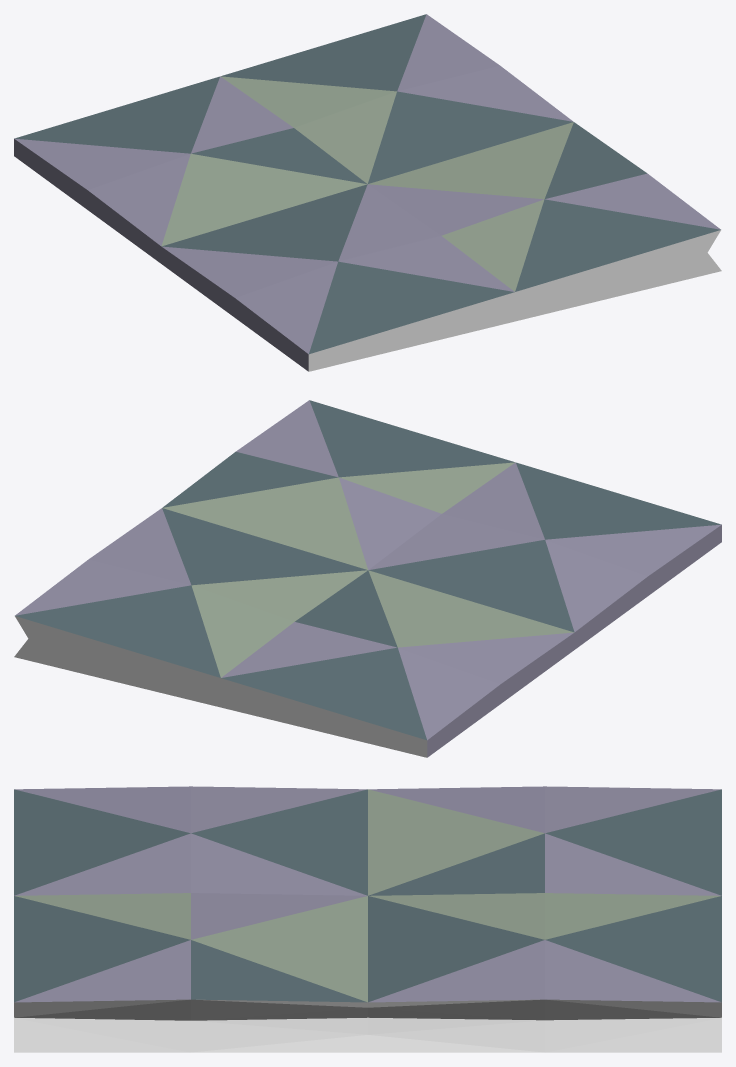
Rendered from item_magazine.fbx.
The picture shows the model from 3 angles, top to bottom: view 1: azimuth 30°, elevation 25°; view 2: azimuth 150°, elevation 25°; view 3: azimuth 270°, elevation 25°; orthographic projection. The views are drawn at different scales.
Visible parts, largest first — view 1: item_magazine; view 2: item_magazine; view 3: item_magazine.
Boxes of the visible parts, box(x1,y1,x2,y2) form: item_magazine: box(14, 14, 721, 371); item_magazine: box(14, 400, 721, 757); item_magazine: box(14, 786, 721, 1052).
Size of the model in its own units: 24.51 by 2.48 by 30.28.
